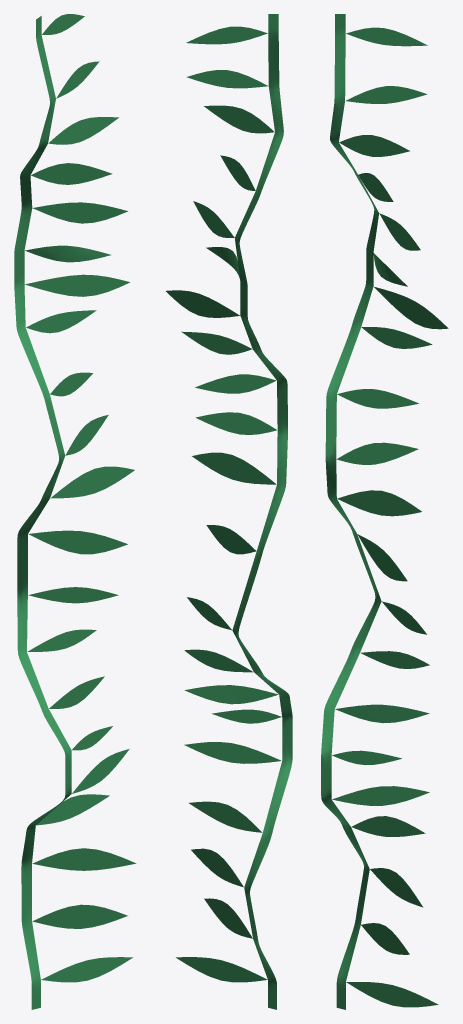
Rendered from seaweed.fbx.
3 renders of one model, left to right at view 1: azimuth 30°, elevation 25°; view 2: azimuth 150°, elevation 25°; view 3: azimuth 330°, elevation 25°, orthographic.
Visible parts, largest first — view 1: seaweed_1; view 2: seaweed_1; view 3: seaweed_1.
Boxes of the visible parts, x1,y1,x2,y2 form: seaweed_1: (14,14,136,1009); seaweed_1: (166,14,292,1009); seaweed_1: (321,14,448,1009).
Size of the model in its own units: 235 by 2097 by 196.
